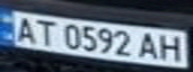0: (57, 20, 84, 51)
2: (112, 27, 136, 58)
5: (78, 24, 100, 53)
9: (96, 25, 115, 56)
A: (9, 14, 39, 44), (136, 29, 163, 61)
H: (154, 33, 187, 63)
T: (30, 17, 60, 46)
